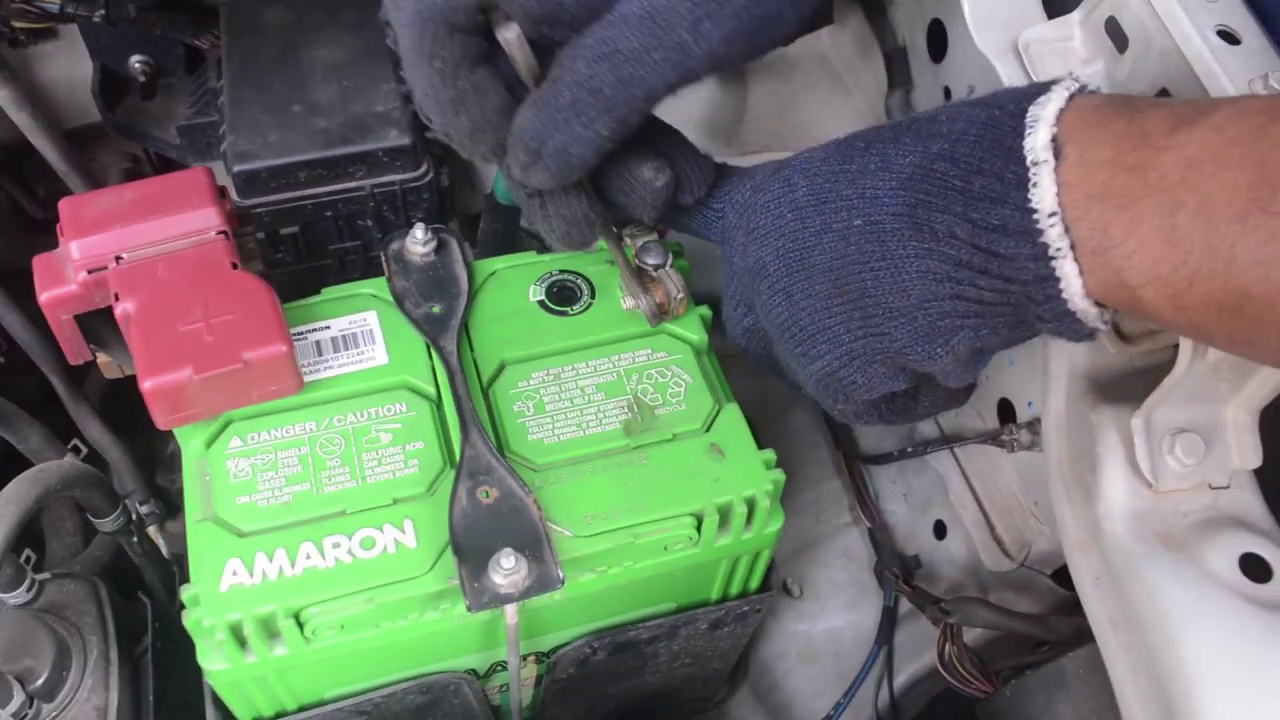battery: (150, 221, 781, 681)
neg_connected: (609, 186, 698, 333)
neg_touched: (464, 22, 759, 339)
pos_connected: (48, 134, 310, 448)
